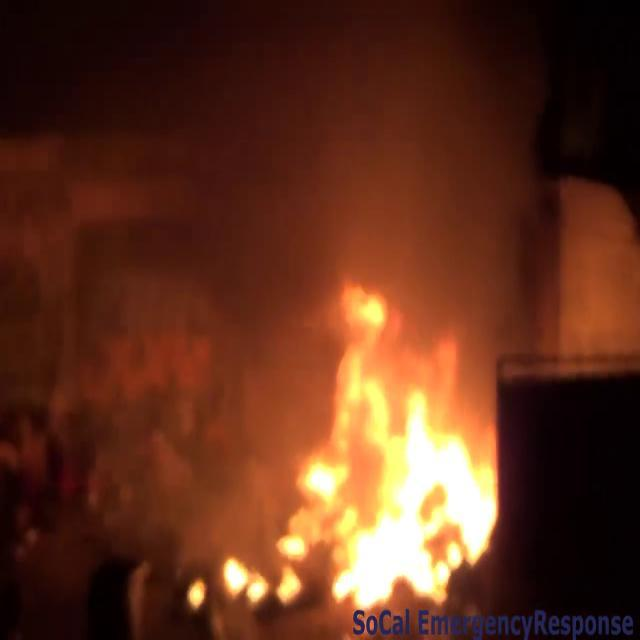Fire: (212, 282, 502, 622)
Smoke: (165, 0, 555, 345)
